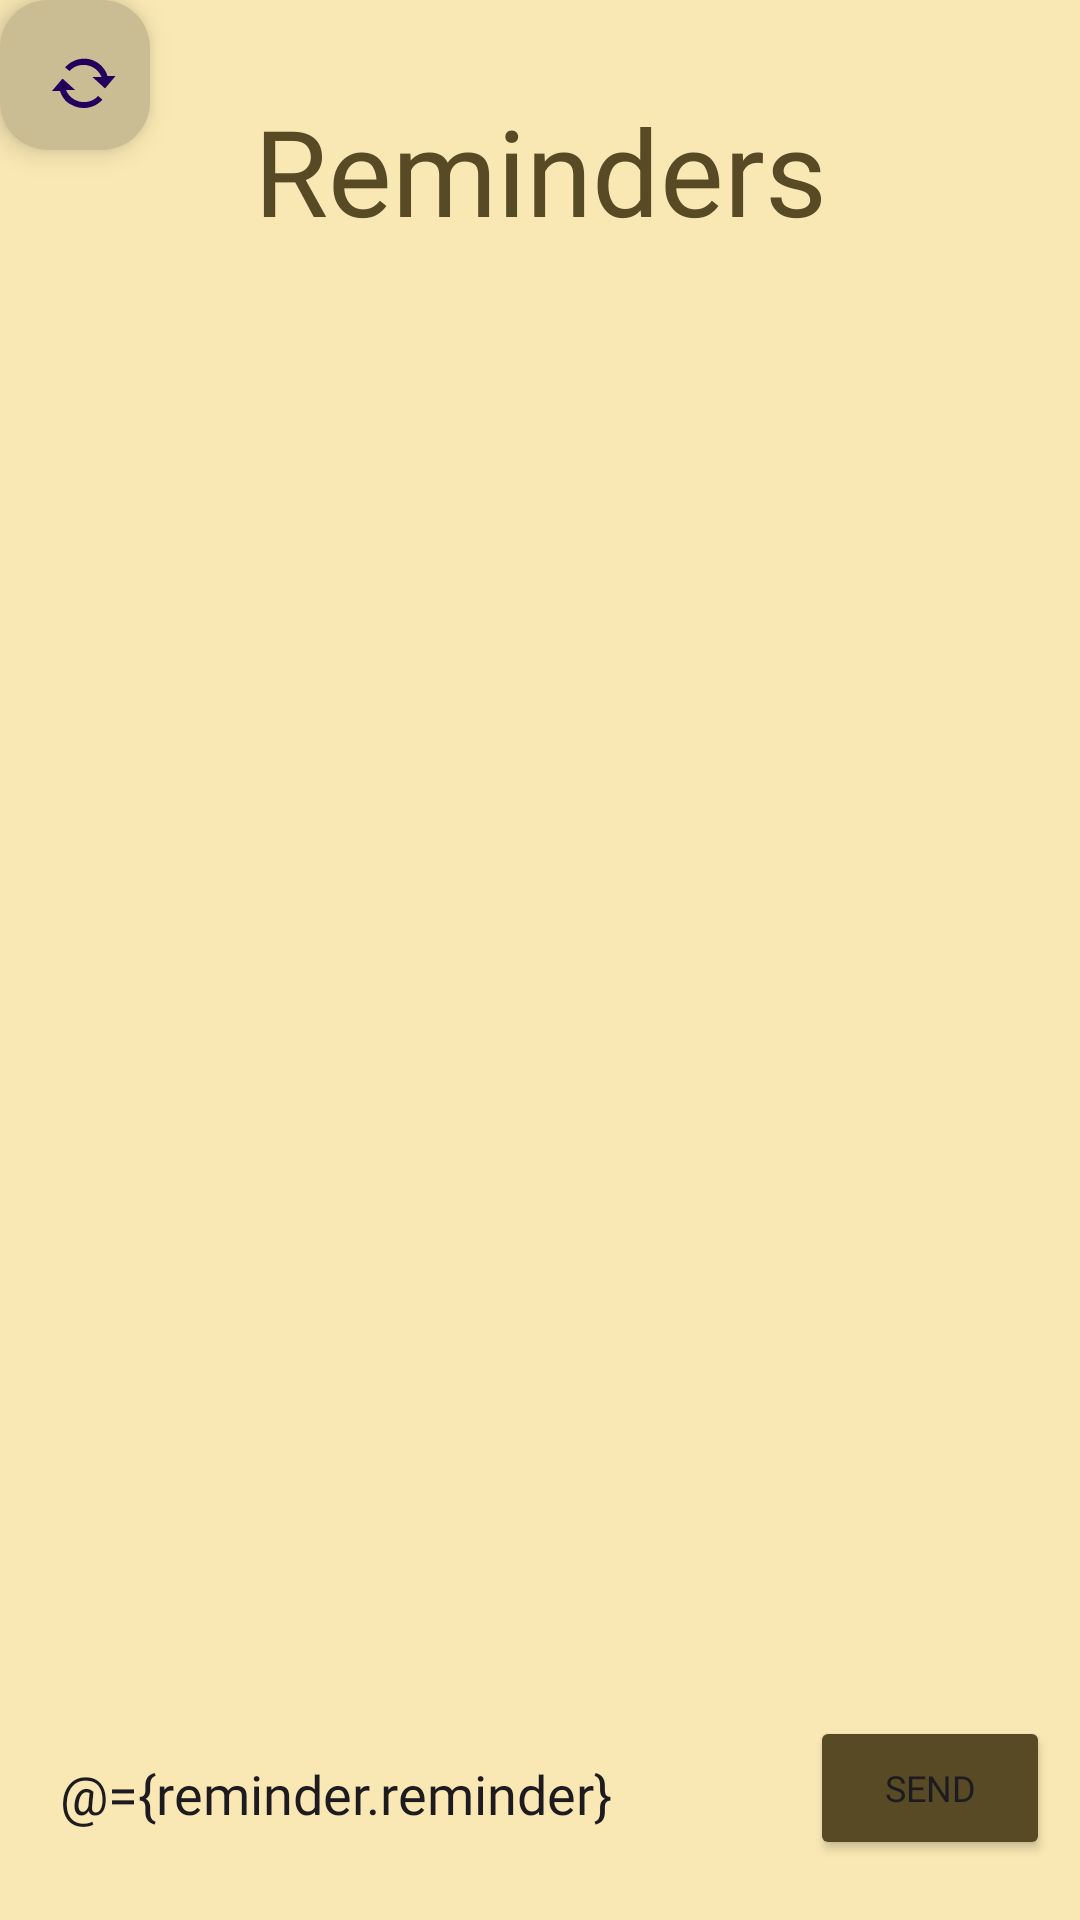

Named icons in this screenshot (1080 x 1920) and their centers, (x=x, y=y):
sync: (x=75, y=75)
